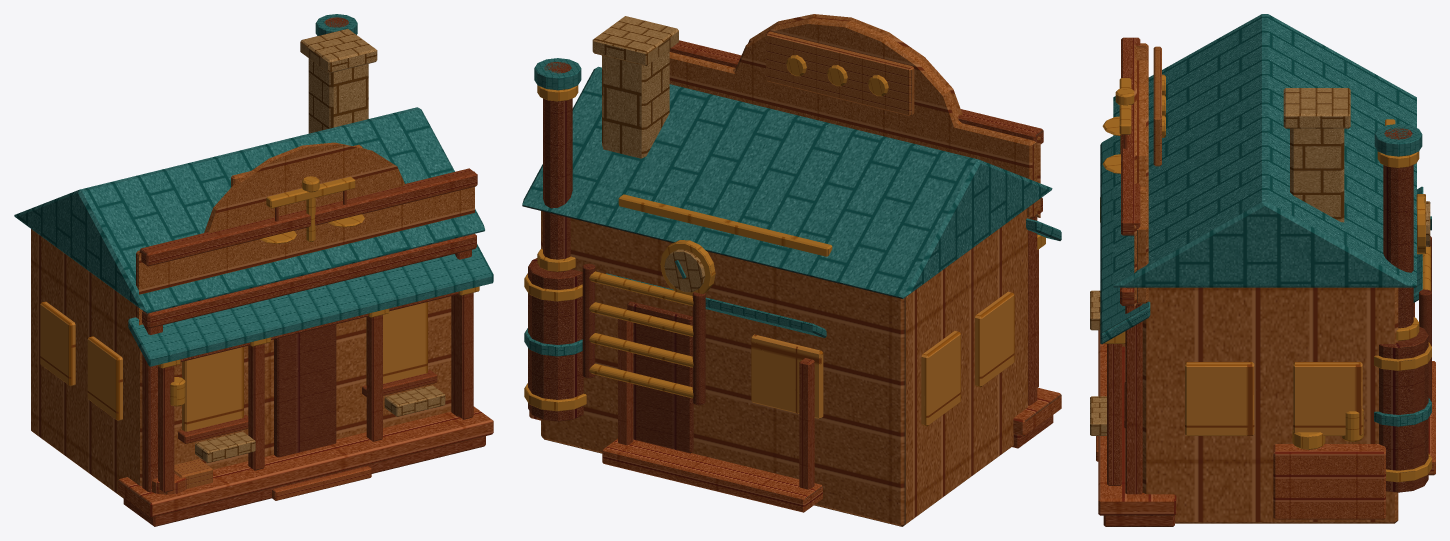
File: assay-office.e2.glb
3 views of the same model, side by side, from view 1: azimuth 30°, elevation 25°; view 2: azimuth 150°, elevation 25°; view 3: azimuth 270°, elevation 25° (orthographic). The views are drawn at different scales.
Parts seen in each view (by area): view 1: AssayOfficeE2; view 2: AssayOfficeE2; view 3: AssayOfficeE2.
Boxes of the visible parts, x1,y1,x2,y2 form: AssayOfficeE2: (14,14,493,526); AssayOfficeE2: (522,14,1061,526); AssayOfficeE2: (1090,14,1435,526).
Bounding box in the file's own units: 4.42 × 4.2 × 3.32.
Materials: 1 (1 with a texture image).
